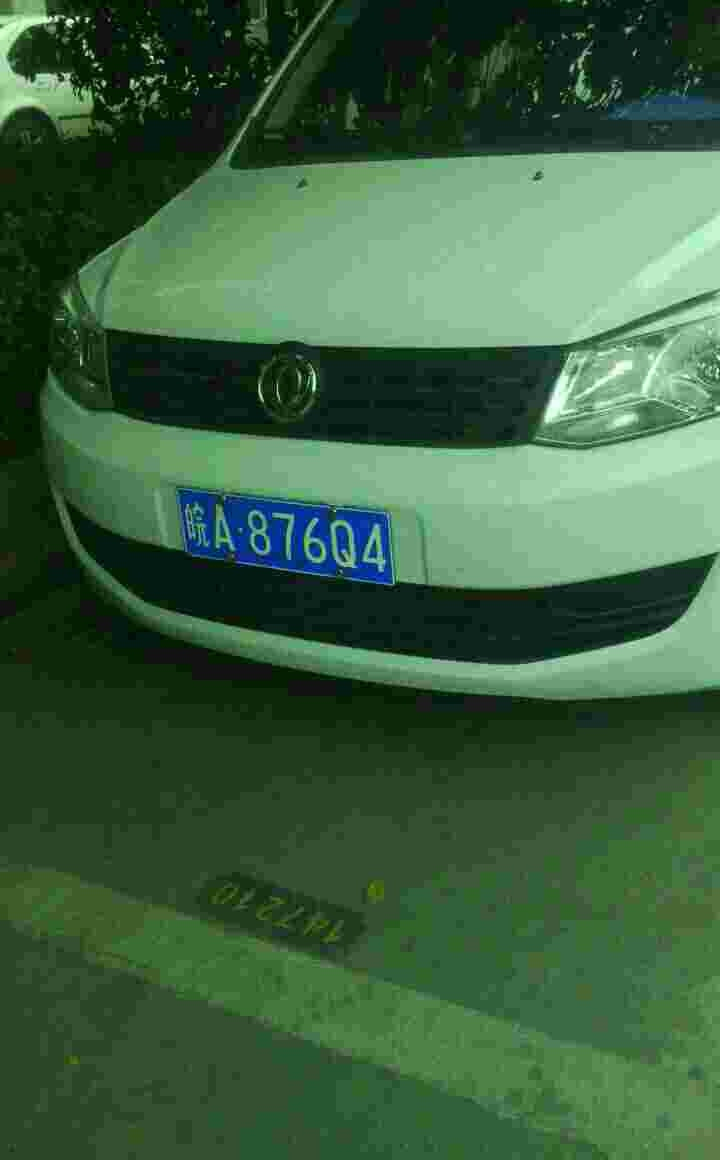license_plate: (174, 493, 402, 571)
